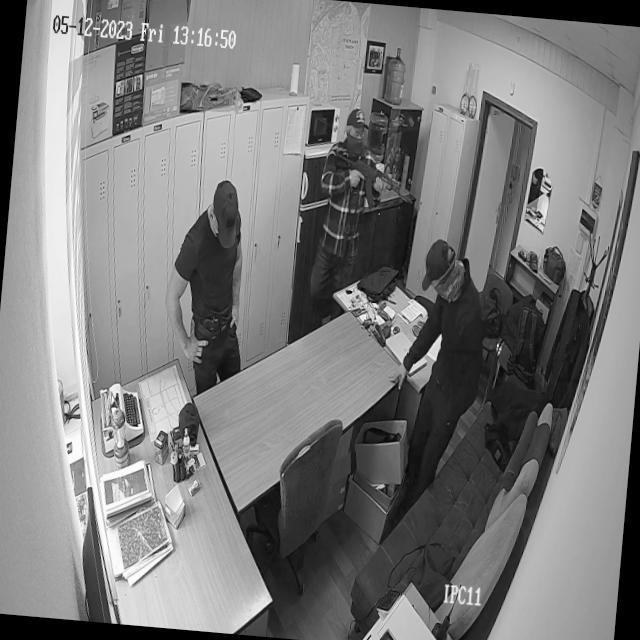gun: (333, 152, 416, 205)
person: (158, 166, 274, 394), (396, 222, 484, 426)
person with a gun: (315, 95, 387, 306)
